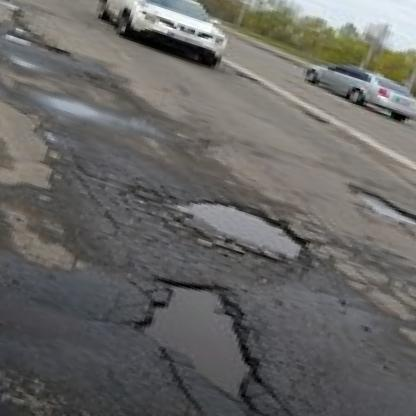pothole: (121, 265, 278, 407), (168, 185, 319, 269), (346, 185, 416, 237), (1, 29, 68, 58), (301, 109, 328, 124), (0, 0, 24, 13)
